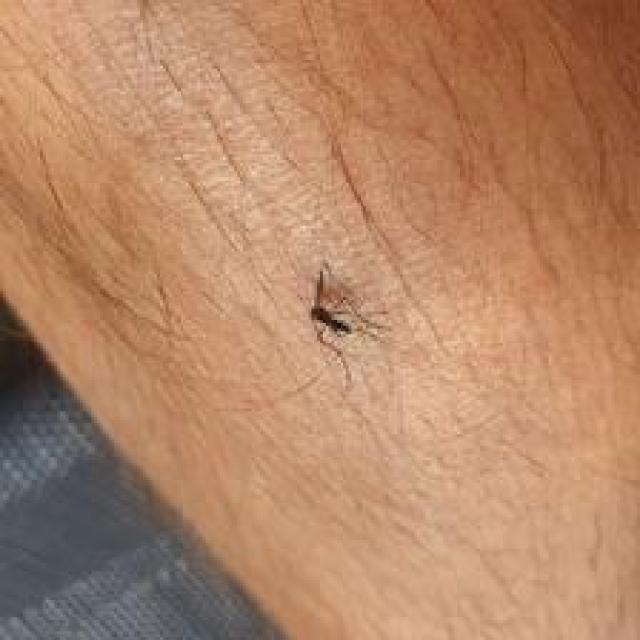Aedes albopictus: (308, 267, 352, 339)
